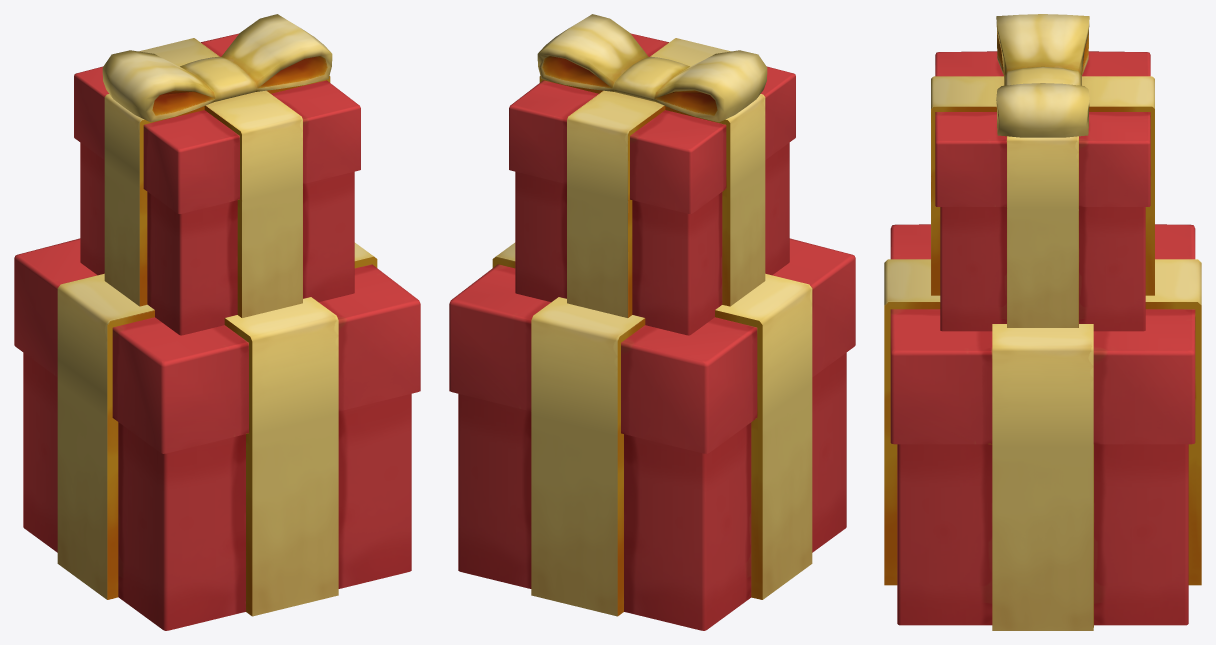
The model's file is Env_mesh_giftbox_002.FBX.
The picture shows the model from 3 angles, left to right: view 1: azimuth 30°, elevation 25°; view 2: azimuth 150°, elevation 25°; view 3: azimuth 270°, elevation 25°; orthographic projection.
Parts seen in each view (by area): view 1: giftbox_001; view 2: giftbox_001; view 3: giftbox_001.
Part boxes in pixels (x1=…): giftbox_001: x1=14, y1=14, x2=420, y2=630; giftbox_001: x1=449, y1=14, x2=855, y2=630; giftbox_001: x1=884, y1=14, x2=1201, y2=630.
Bounding box in the file's own units: 83.34 × 147 × 83.34.
